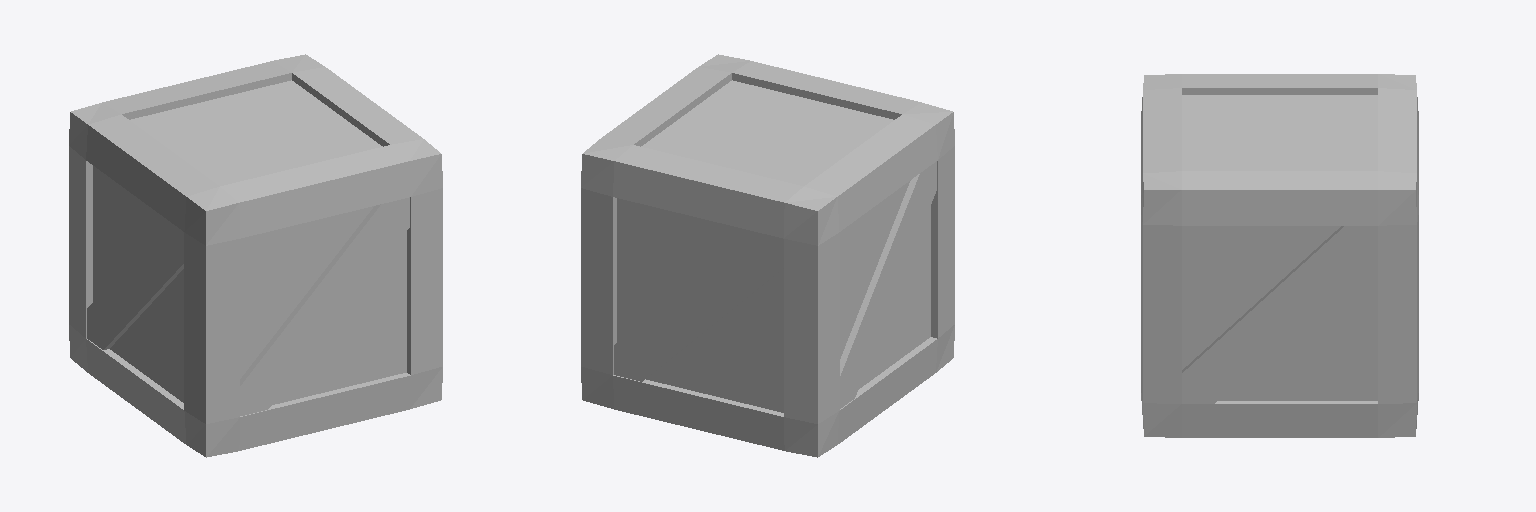
Rendered from crate.obj.
3 renders of one model, left to right at view 1: azimuth 30°, elevation 25°; view 2: azimuth 150°, elevation 25°; view 3: azimuth 270°, elevation 25°, orthographic.
Visible parts, largest first — view 1: crate:pCube1; view 2: crate:pCube1; view 3: crate:pCube1.
Boxes of the visible parts, x1=… form: crate:pCube1: x1=69, y1=54, x2=442, y2=457; crate:pCube1: x1=581, y1=54, x2=954, y2=457; crate:pCube1: x1=1141, y1=74, x2=1418, y2=437.
Size of the model in its own units: 1.08 by 1.08 by 1.08.